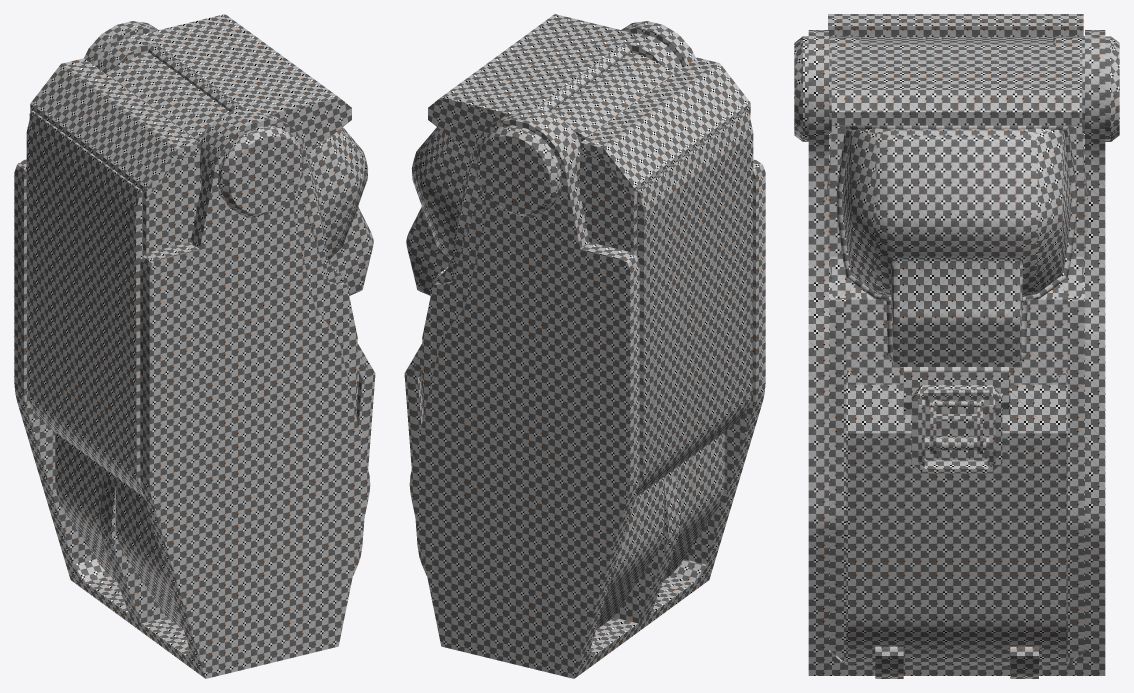
Rendered from Capsule_Gameready.FBX.
3 views of the same model, side by side, from view 1: azimuth 30°, elevation 25°; view 2: azimuth 150°, elevation 25°; view 3: azimuth 270°, elevation 25° (orthographic). The views are drawn at different scales.
Parts seen in each view (by area): view 1: Cap_002; view 2: Cap_002; view 3: Cap_002.
Boxes of the visible parts, <box> form: Cap_002: <box>14,14,375,678</box>; Cap_002: <box>404,14,765,678</box>; Cap_002: <box>794,14,1119,678</box>.
Bounding box in the file's own units: 50.77 × 99.68 × 49.14.
